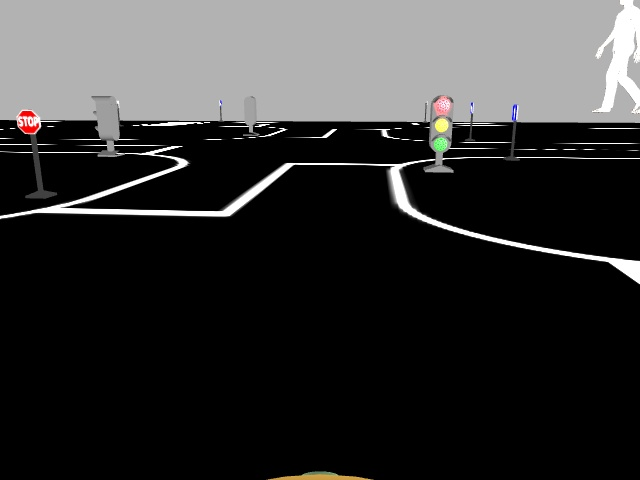Stop: (16, 107, 39, 134)
TrafficLight: (428, 94, 453, 151)
